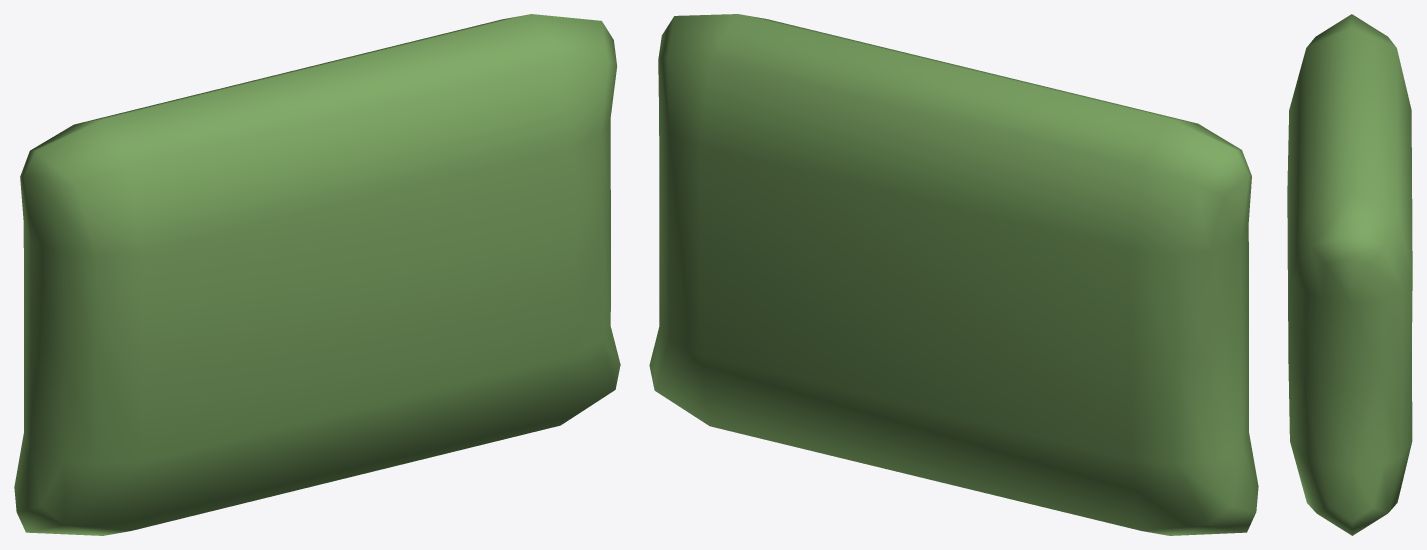
The model's file is Pillows_01_02.fbx.
The picture shows the model from 3 angles, left to right: view 1: azimuth 30°, elevation 25°; view 2: azimuth 150°, elevation 25°; view 3: azimuth 270°, elevation 25°; orthographic projection. The views are drawn at different scales.
Visible parts, largest first — view 1: Pillow_01; view 2: Pillow_01; view 3: Pillow_01.
Part boxes in pixels (x1,y1,x2,y2): Pillow_01: (14, 14, 620, 535); Pillow_01: (649, 14, 1258, 535); Pillow_01: (1287, 14, 1412, 535).
Size of the model in its own units: 0.5008 by 0.3308 by 0.1139.
